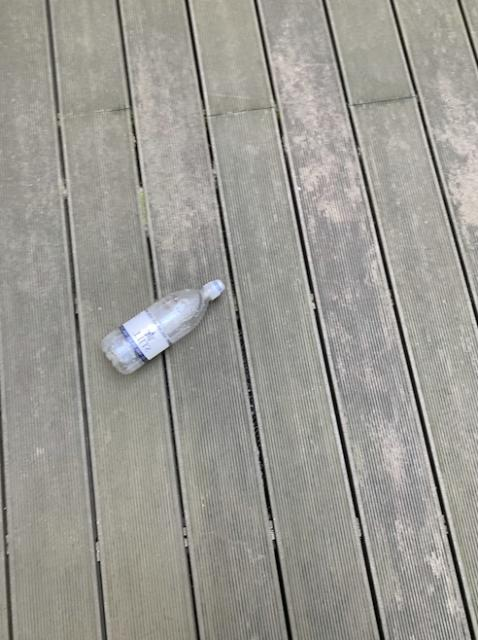plastic: (104, 278, 225, 373)
